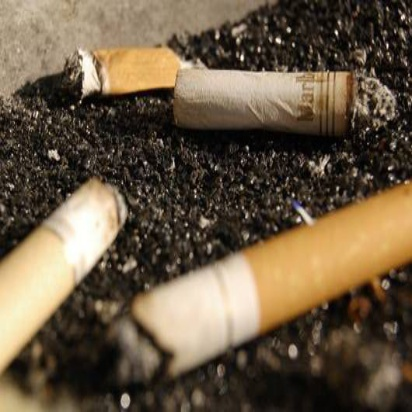cigarette: (113, 176, 412, 389), (1, 163, 124, 383), (169, 65, 403, 143), (58, 44, 190, 96)
